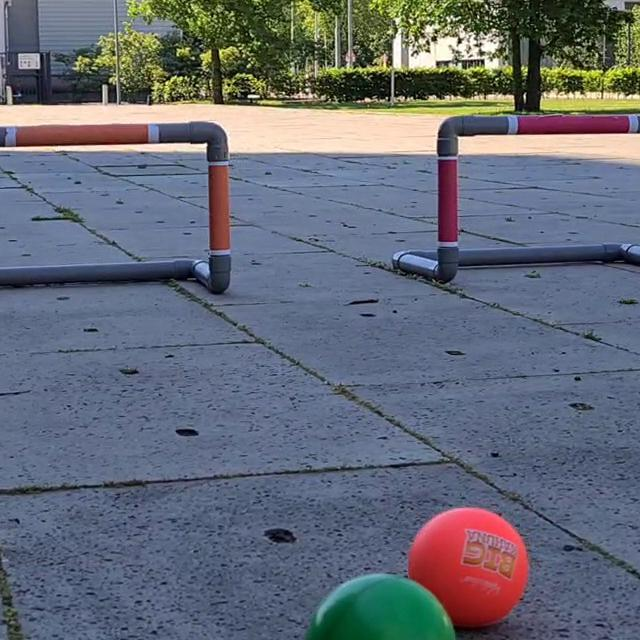ball: (302, 570, 462, 640)
